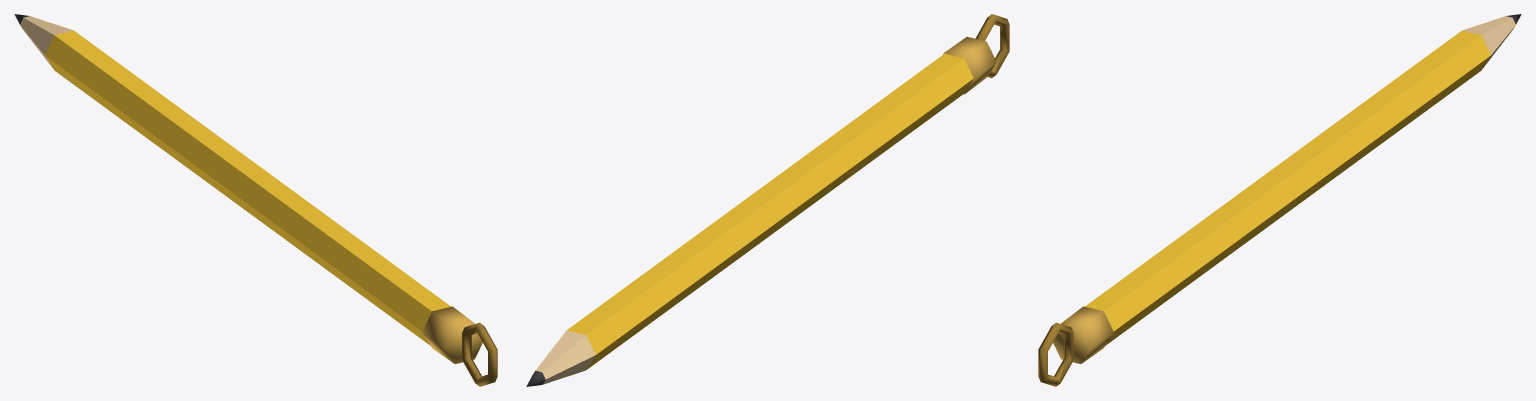
Rendered from pencil.glb.
The picture shows the model from 3 angles, left to right: view 1: azimuth 30°, elevation 25°; view 2: azimuth 150°, elevation 25°; view 3: azimuth 330°, elevation 25°; orthographic projection.
Visible parts, largest first — view 1: PencilMesh; view 2: PencilMesh; view 3: PencilMesh.
Boxes of the visible parts, box(x1,y1,x2,y2) form: PencilMesh: box(14, 14, 497, 386); PencilMesh: box(526, 14, 1009, 386); PencilMesh: box(1038, 14, 1521, 386).
Size of the model in its own units: 0.0094 by 0.0142 by 0.1921.
1 material, 1 textured.
